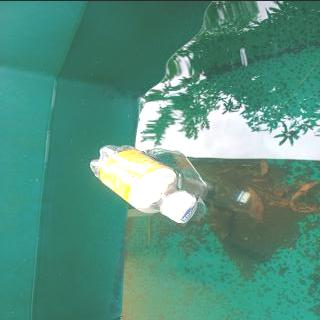bottle: (87, 142, 200, 224)
